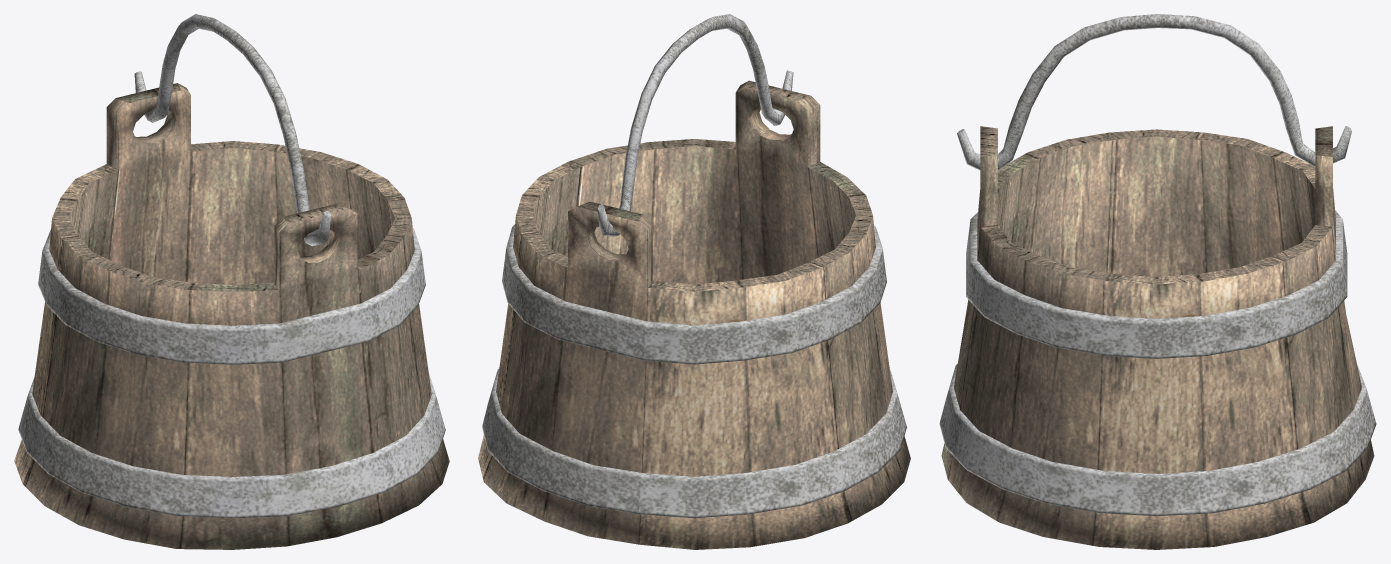
Rendered from bucket_02_lrg.fbx.
3 renders of one model, left to right at view 1: azimuth 30°, elevation 25°; view 2: azimuth 150°, elevation 25°; view 3: azimuth 270°, elevation 25°, orthographic. The views are drawn at different scales.
Parts seen in each view (by area): view 1: bucket02_large, metalHandle_large; view 2: bucket02_large, metalHandle_large; view 3: bucket02_large, metalHandle_large.
Boxes of the visible parts, left/top/right/bottom form: bucket02_large: left=14, top=83, right=449, bottom=549; metalHandle_large: left=134, top=14, right=331, bottom=246; bucket02_large: left=478, top=80, right=910, bottom=549; metalHandle_large: left=597, top=14, right=793, bottom=236; bucket02_large: left=939, top=126, right=1376, bottom=549; metalHandle_large: left=957, top=14, right=1351, bottom=171.
Size of the model in its own units: 47.33 by 51.9 by 46.54.
